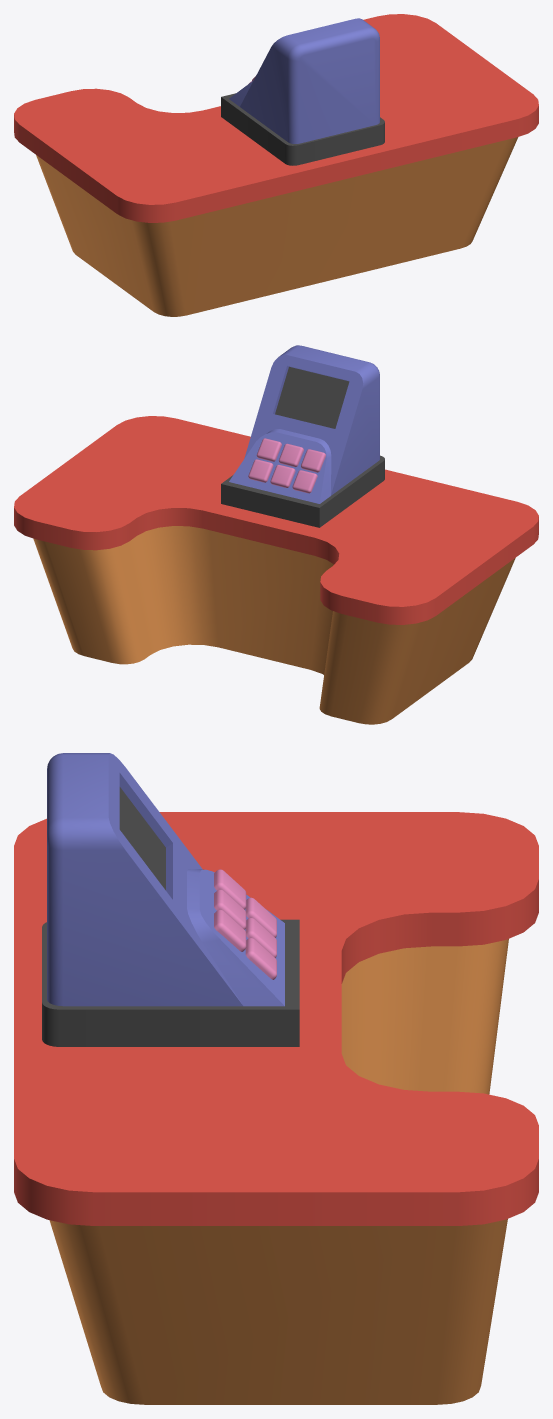
File: kasaMasa.fbx
3 renders of one model, top to bottom at view 1: azimuth 30°, elevation 25°; view 2: azimuth 150°, elevation 25°; view 3: azimuth 270°, elevation 25°, orthographic. The views are drawn at different scales.
Visible parts, largest first — view 1: masa, kasa; view 2: masa, kasa; view 3: masa, kasa.
Part boxes in pixels (box(x1,y1,x2,y2)): masa: box(14, 14, 538, 316); kasa: box(221, 18, 384, 165); masa: box(14, 416, 538, 724); kasa: box(221, 345, 384, 527); masa: box(14, 812, 538, 1404); kasa: box(42, 753, 299, 1046).
Bounding box in the file's own units: 406 × 236 × 237.
